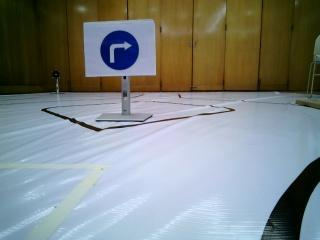right: (84, 25, 156, 74)
